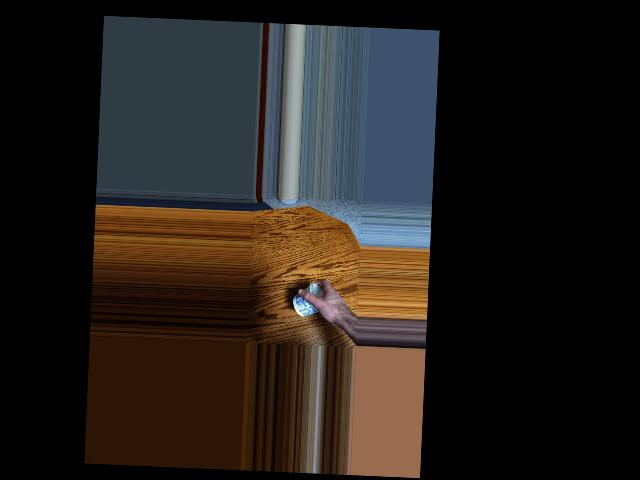cotage: (291, 280, 323, 320)
